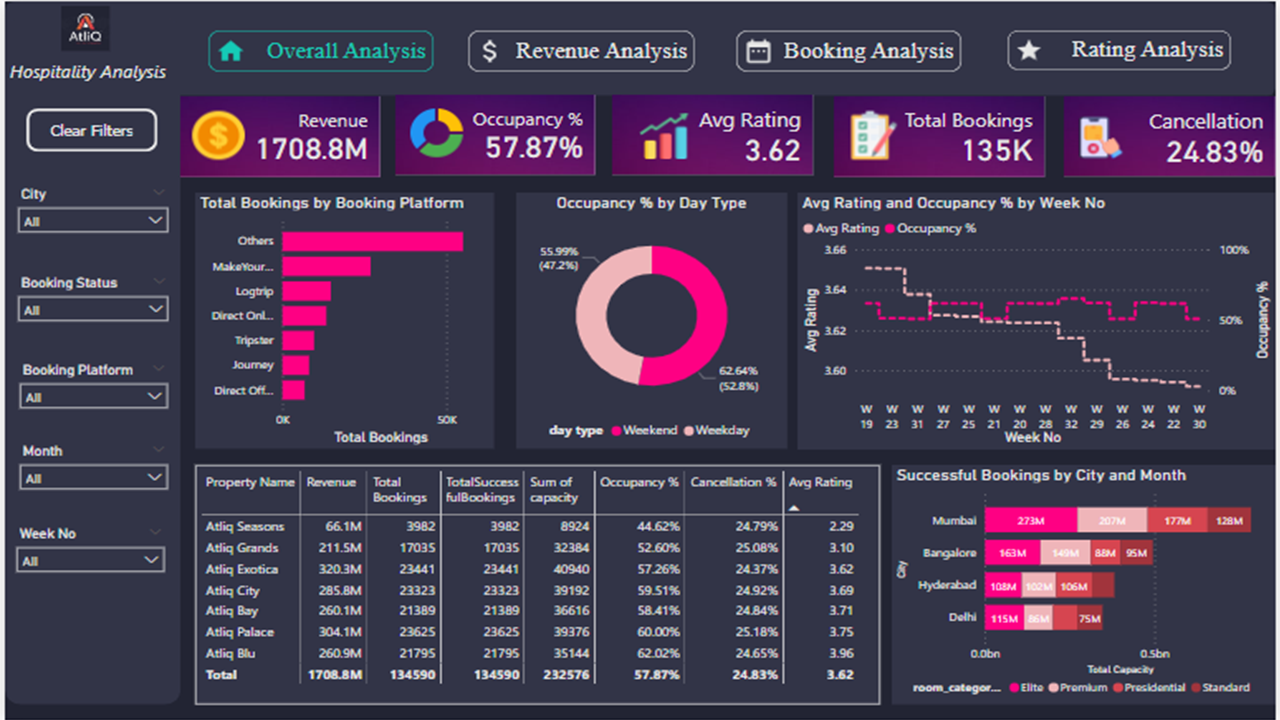

The dashboard page shown, as its layout file describes it:
{"tool":"powerbi","page":{"name":"Dashboard","canvas":[1280,784],"ordinal":0},"visuals":[{"type":"shape","box":[0,0,1280,103.3],"z":0},{"type":"slicer","title":"Booking Platform","fields":{"Values":["fact_bookings.booking_platform"]},"box":[6,191,171,64],"z":0},{"type":"shape","box":[0,18.3,176.7,748.3],"z":1000},{"type":"slicer","fields":{"Values":["dim_hotels.city"]},"box":[3.1,196.7,171,64],"z":1000},{"type":"actionButton","box":[205,31.7,226.7,45],"z":2000},{"type":"slicer","fields":{"Values":["fact_bookings.booking_status"]},"box":[2.9,292.9,171.4,64.3],"z":2000},{"type":"actionButton","box":[466.7,31.7,228.3,45],"z":3000},{"type":"slicer","fields":{"Values":["fact_bookings.booking_platform"]},"box":[5.7,388.6,168.6,64.3],"z":3000},{"type":"actionButton","box":[736.7,31.7,226.7,45],"z":4000},{"type":"slicer","fields":{"Values":["dim_date.date.Variation.Date Hierarchy.Month"]},"box":[5.7,477.1,168.6,64.3],"z":4000},{"type":"actionButton","box":[1010,31.7,225,43.3],"z":5000},{"type":"slicer","fields":{"Values":["dim_date.week no"]},"box":[1.4,567.1,168.6,64.3],"z":5000},{"type":"image","box":[37.1,0,88.6,58.6],"z":6000},{"type":"textbox","box":[0,58.3,205,45],"z":7000},{"type":"actionButton","box":[21.7,116.7,131.7,46.7],"z":8000},{"type":"cardVisual","fields":{"Data":["fact_bookings.Revenue"]},"box":[176.7,102.8,201.3,88.3],"z":9000},{"type":"cardVisual","fields":{"Data":["fact_aggregated_bookings.Occupancy%"]},"box":[393.3,102.2,201.1,87.8],"z":10000},{"type":"cardVisual","fields":{"Data":["fact_bookings.AverageRating"]},"box":[611.1,102.2,202.2,87.8],"z":11000},{"type":"cardVisual","fields":{"Data":["fact_bookings.TotalBookings"]},"box":[835.7,102.9,212.9,88.6],"z":12000},{"type":"cardVisual","fields":{"Data":["fact_bookings.Cancellation%"]},"box":[1066.7,103.3,213.3,87.8],"z":13000},{"type":"barChart","title":"Total Bookings by Booking Platform","fields":{"Category":["fact_bookings.booking_platform"],"Y":["fact_bookings.Total Bookings"]},"box":[191.4,208.6,301.4,278.6],"z":14000},{"type":"donutChart","title":"Occupancy % by Day Type","fields":{"Y":["fact_aggregated_bookings.Occupancy%"],"Category":["dim_date.day type"]},"box":[515.7,208.6,272.9,278.6],"z":15000},{"type":"pivotTable","fields":{"Rows":["dim_hotels.Property Name"],"Values":["fact_bookings.Revenue","fact_bookings.Total Bookings","fact_aggregated_bookings.TotalSuccessfulBookings","Sum(fact_aggregated_bookings.capacity)","fact_aggregated_bookings.Occupancy %","fact_bookings.Cancellation %","fact_bookings.Avg Rating"]},"box":[191.4,505.7,690,261.4],"z":16000},{"type":"barChart","title":"Successful Bookings by City and Month","fields":{"Category":["dim_hotels.city"],"Y":["Sum(fact_bookings.revenue_generated)"],"Series":["dim_rooms.room_category_class"]},"box":[892.9,505.7,387.1,261.4],"z":17000},{"type":"lineChart","fields":{"Category":["dim_date.Week No"],"Y":["fact_bookings.Avg Rating"],"Y2":["fact_aggregated_bookings.Occupancy %"]},"box":[798.6,208.6,481.4,280],"z":19000}]}

Visuals, with their boxes on the page's 1280x784 design canvas (x1, y1, x2, y2). These are canvas units, not pixel positions in the 1280x720 screenshot, which may show the page scaled, cropped or inside an application window:
shape: bbox=[0, 0, 1280, 103]
"Booking Platform" slicer: bbox=[6, 191, 177, 255]
shape: bbox=[0, 18, 177, 767]
slicer - dim_hotels.city: bbox=[3, 197, 174, 261]
actionButton: bbox=[205, 32, 432, 77]
slicer - fact_bookings.booking_status: bbox=[3, 293, 174, 357]
actionButton: bbox=[467, 32, 695, 77]
slicer - fact_bookings.booking_platform: bbox=[6, 389, 174, 453]
actionButton: bbox=[737, 32, 963, 77]
slicer - dim_date.date.Variation.Date Hierarchy.Month: bbox=[6, 477, 174, 541]
actionButton: bbox=[1010, 32, 1235, 75]
slicer - dim_date.week no: bbox=[1, 567, 170, 631]
image: bbox=[37, 0, 126, 59]
textbox: bbox=[0, 58, 205, 103]
actionButton: bbox=[22, 117, 153, 163]
cardVisual - fact_bookings.Revenue: bbox=[177, 103, 378, 191]
cardVisual - fact_aggregated_bookings.Occupancy%: bbox=[393, 102, 594, 190]
cardVisual - fact_bookings.AverageRating: bbox=[611, 102, 813, 190]
cardVisual - fact_bookings.TotalBookings: bbox=[836, 103, 1049, 192]
cardVisual - fact_bookings.Cancellation%: bbox=[1067, 103, 1280, 191]
"Total Bookings by Booking Platform" barChart: bbox=[191, 209, 493, 487]
"Occupancy % by Day Type" donutChart: bbox=[516, 209, 789, 487]
pivotTable - dim_hotels.Property Name x fact_bookings.Revenue: bbox=[191, 506, 881, 767]
"Successful Bookings by City and Month" barChart: bbox=[893, 506, 1280, 767]
lineChart - dim_date.Week No x fact_bookings.Avg Rating: bbox=[799, 209, 1280, 489]
